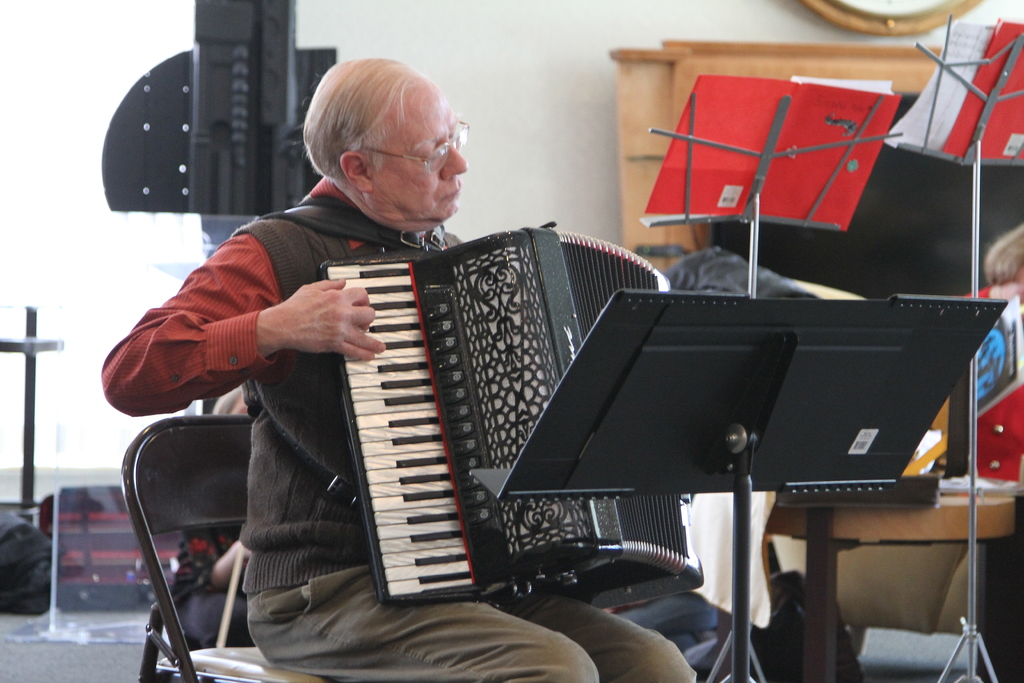Person: (100, 58, 697, 682), (952, 220, 1024, 683)
